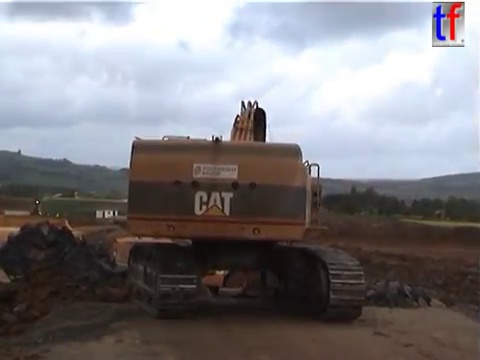excavator: (105, 95, 368, 325)
truck: (1, 217, 132, 339), (195, 229, 309, 310), (97, 231, 192, 304)
